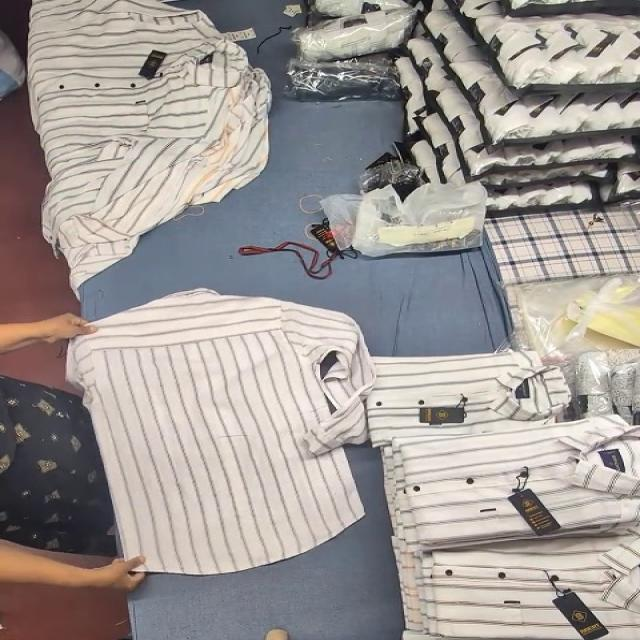new-garment: (68, 289, 375, 573)
